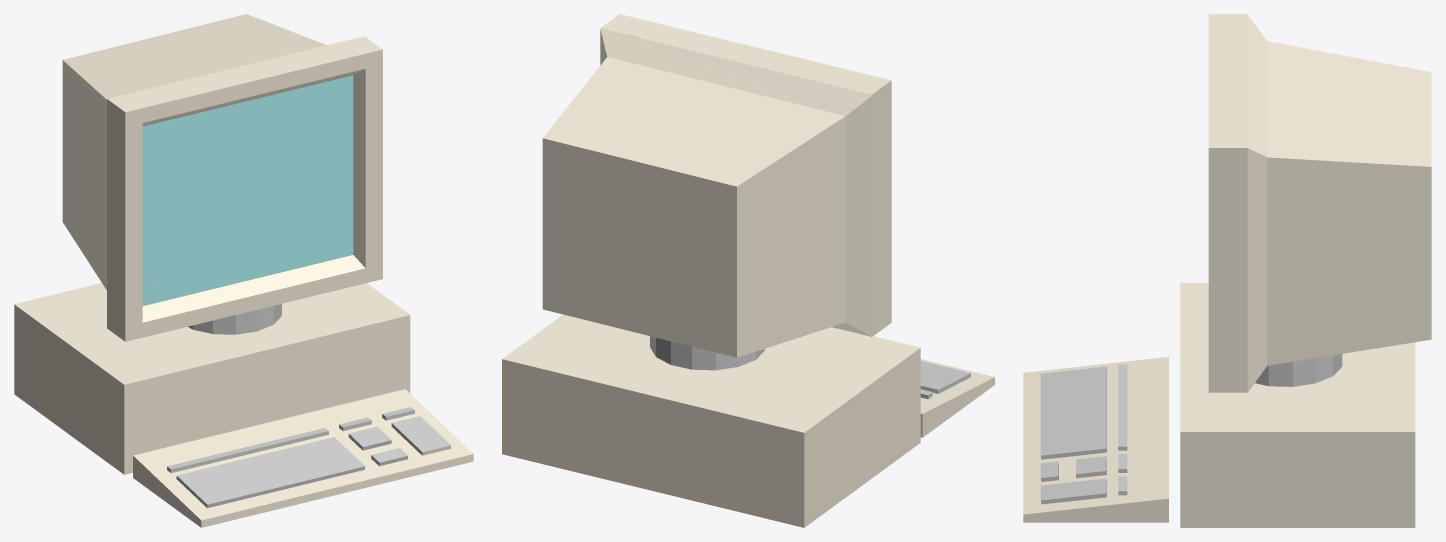
File: computer.glb
3 views of the same model, side by side, from view 1: azimuth 30°, elevation 25°; view 2: azimuth 150°, elevation 25°; view 3: azimuth 270°, elevation 25° (orthographic). The views are drawn at different scales.
Visible parts, largest first — view 1: computer; view 2: computer; view 3: computer.
Part boxes in pixels (left/top/right/bottom): computer: left=14, top=14, right=473, bottom=527; computer: left=502, top=14, right=994, bottom=527; computer: left=1023, top=14, right=1431, bottom=527.
Bounding box in the file's own units: 69.15 × 80.68 × 80.18.
Materials: 1 (1 with a texture image).
